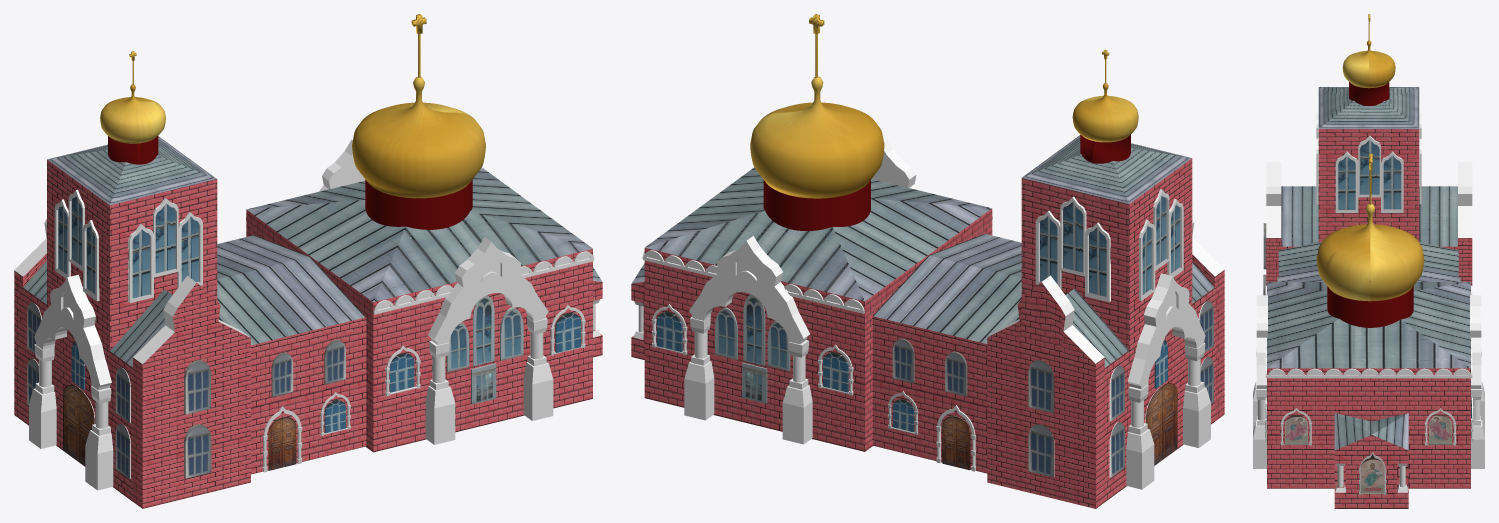
File: prayer_gltf_copy.gltf
3 renders of one model, left to right at view 1: azimuth 30°, elevation 25°; view 2: azimuth 150°, elevation 25°; view 3: azimuth 270°, elevation 25°, orthographic. The views are drawn at different scales.
Visible parts, largest first — view 1: Circle.035, Plane.001, Plane.002, Circle.039, Circle.036, Circle.069, Circle.083, Circle.068, Circle.078, Circle.056, Circle.061, Plane.000 (+9 smaller); view 2: Circle.035, Plane.000, Plane.002, Circle.038, Circle.036, Circle.069, Circle.070, Circle.068, Circle.048, Circle.079, Plane.001, Circle.047 (+9 smaller); view 3: Circle.035, Circle.037, Plane.001, Plane.000, Circle.046, Cube.003, Circle.042, Circle.043, Circle.038, Circle.039.
Boxes of the visible parts, x1,y1,x2,y2 form: Circle.035: (14,77,602,508); Plane.001: (425,237,553,444); Plane.002: (29,274,113,490); Circle.039: (128,198,202,302); Circle.036: (54,189,98,301); Circle.069: (63,385,94,466); Circle.083: (473,295,494,366); Circle.068: (268,416,296,470); Circle.078: (184,424,211,478); Circle.056: (184,360,210,414); Circle.061: (500,307,523,360); Plane.000: (319,139,417,299); Circle.035: (631,76,1224,508); Plane.000: (684,236,812,444); Plane.002: (1126,273,1210,489); Circle.038: (1035,196,1110,302); Circle.036: (1139,189,1183,300); Circle.069: (1146,383,1177,465); Circle.070: (743,294,765,365); Circle.068: (942,416,970,470); Circle.048: (1028,360,1053,413); Circle.079: (1028,424,1053,477); Plane.001: (822,138,918,297); Circle.047: (715,307,737,359); Circle.035: (1266,40,1472,508); Circle.037: (1335,135,1403,212); Plane.001: (1253,295,1267,468); Plane.000: (1470,295,1484,468); Circle.046: (1360,454,1384,493); Cube.003: (1267,375,1471,378); Circle.042: (1429,415,1451,444); Circle.043: (1285,415,1307,444); Circle.038: (1419,113,1421,204); Circle.039: (1316,113,1318,204).
Bounding box in the file's own units: 11.76 × 8.57 × 5.65.
